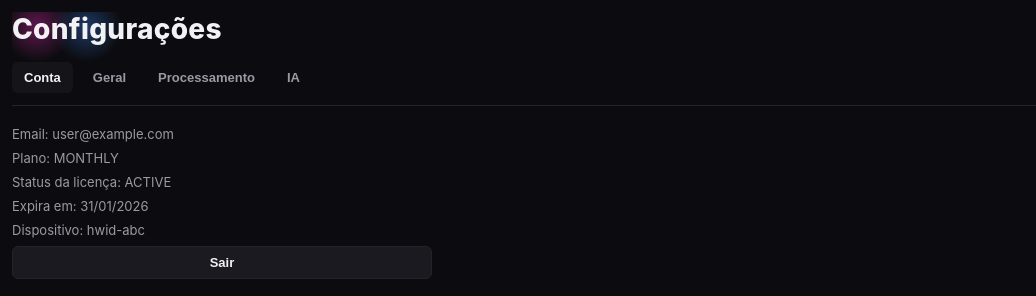
Test case: SettingsPage › shows a placeholder for the other tabs
Expected: the text "Email: user@example.com" is shown, [12, 126, 174, 142]
Click the button "Geral". click: (109, 78)
box: [81, 62, 138, 93]
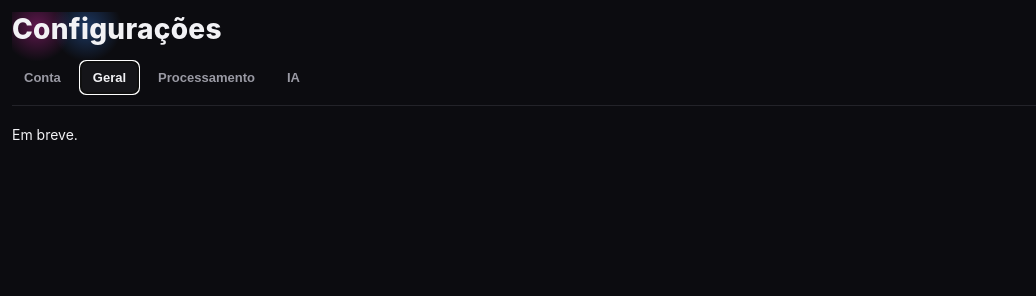
Expected: the text "Em breve." is shown, [12, 126, 78, 143]
